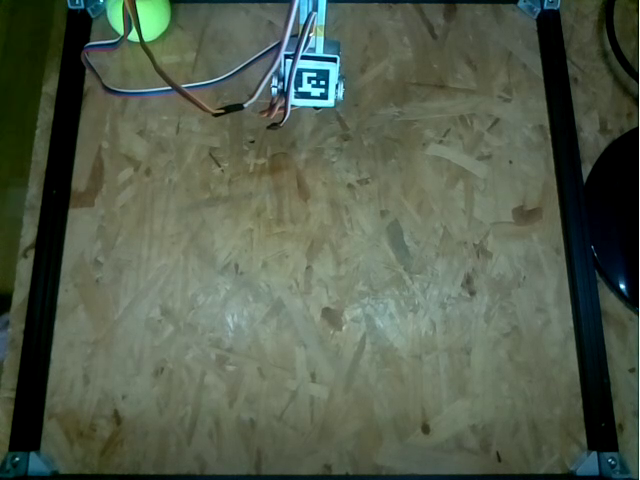tennis_ball: (108, 1, 171, 41)
